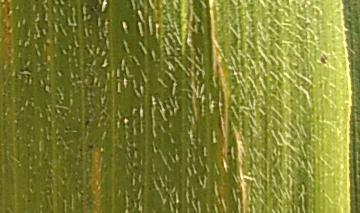tarspot: (318, 52, 329, 64), (87, 142, 94, 151), (5, 24, 14, 31), (83, 119, 90, 126), (225, 150, 232, 155), (77, 147, 83, 152)
